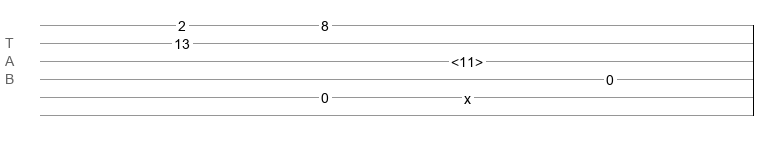0: (321, 90, 329, 100), (606, 72, 614, 82)
13: (174, 36, 190, 46)
2: (178, 18, 186, 28)
8: (321, 18, 329, 28)
harmonic: (451, 54, 483, 64)
x: (464, 91, 471, 99)
